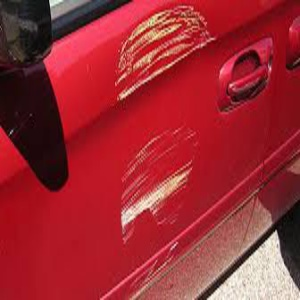door_scratch: (85, 3, 239, 238)
